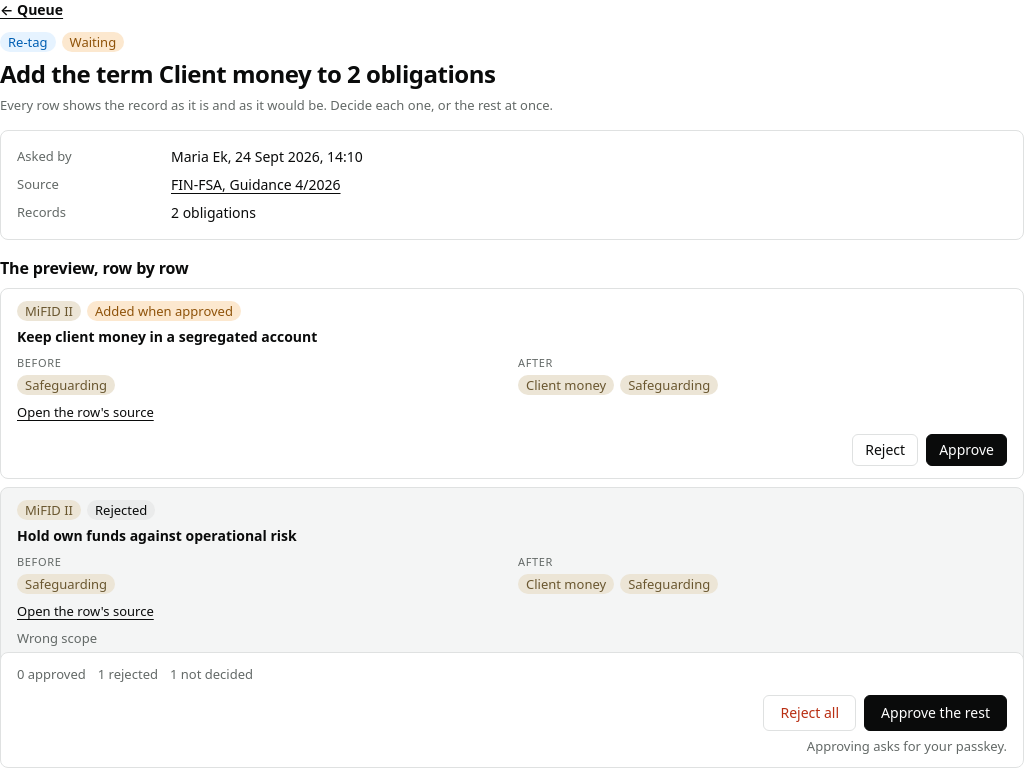
it: the batch review › sends the drafts and approves the rest in one call behind the passkey, then shows the result
Earlier steps of the test are not shown.
Expected: the text "Approving asks for your passkey." is shown, [807, 737, 1007, 755]
Click the button "Approve the rest" at (936, 713), box [864, 695, 1007, 731]
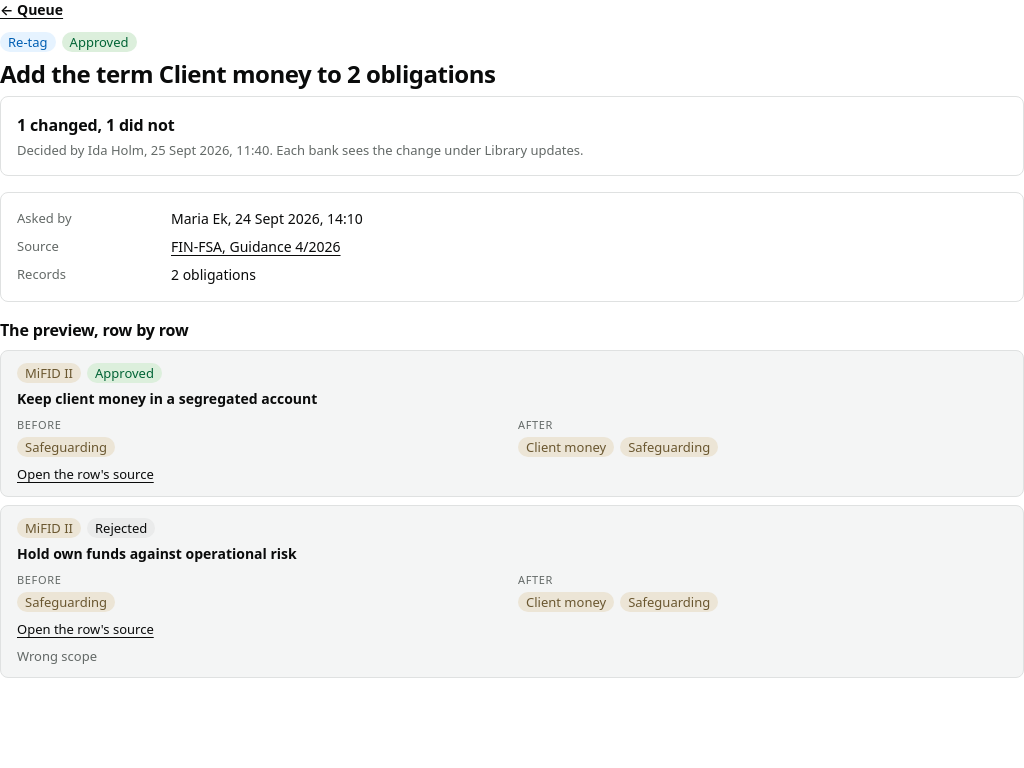
Expected: the button "Approve the rest" is gone
Expected: the button "Undo" is gone
